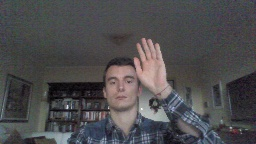Mano_aperta: (131, 36, 168, 93)
